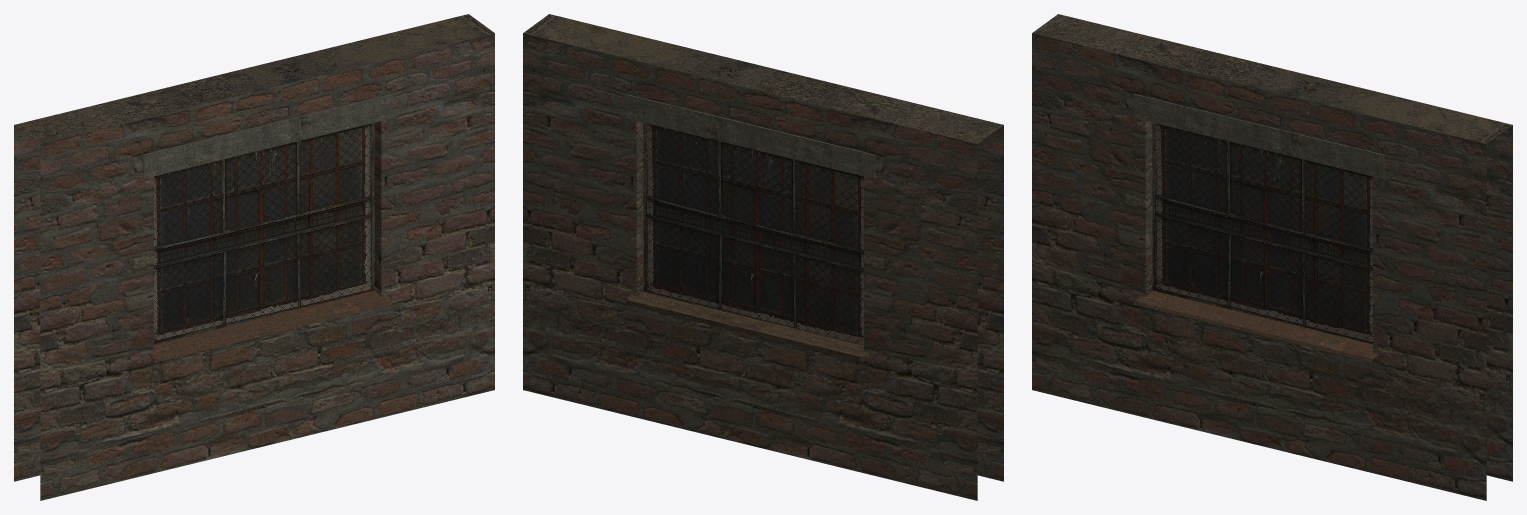
File: window_hr_2.obj
3 renders of one model, left to right at view 1: azimuth 30°, elevation 25°; view 2: azimuth 150°, elevation 25°; view 3: azimuth 330°, elevation 25°, orthographic.
Parts seen in each view (by area): view 1: window_hr_2; view 2: window_hr_2; view 3: window_hr_2.
Boxes of the visible parts, left/top/right/bottom form: window_hr_2: left=14, top=14, right=494, bottom=500; window_hr_2: left=523, top=14, right=1003, bottom=500; window_hr_2: left=1032, top=14, right=1512, bottom=500.
Size of the model in its own units: 4 by 3 by 0.595.
